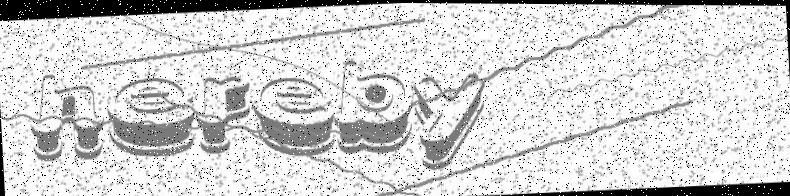b: (332, 55, 417, 153), (411, 70, 493, 170)
e: (104, 71, 199, 159), (253, 69, 338, 158)
h: (28, 67, 109, 162)
r: (196, 71, 255, 155)
